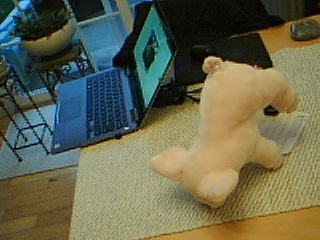piggy: (148, 51, 301, 211)
